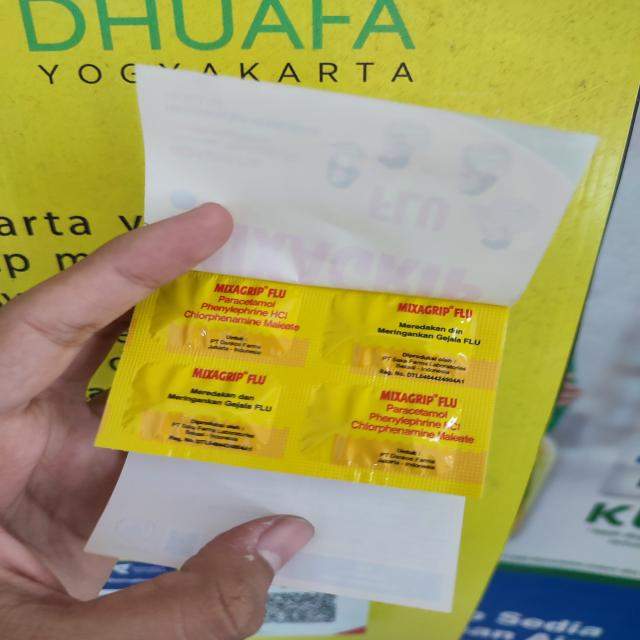B3: (83, 64, 601, 617)
